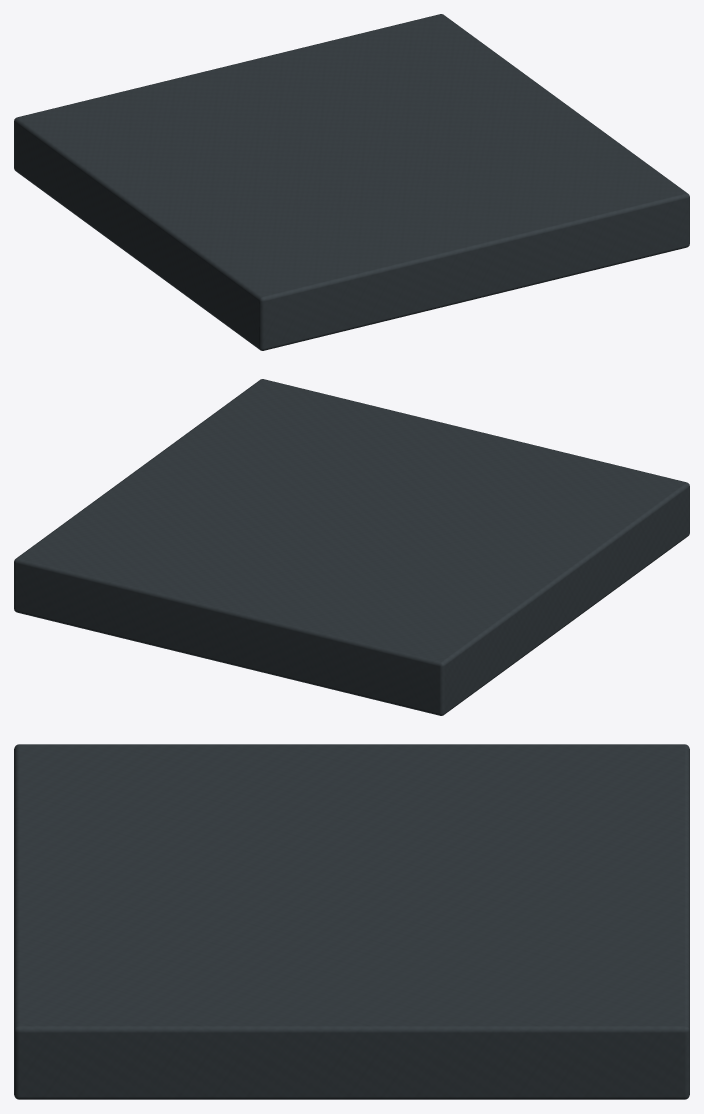
The model's file is CeilingAccessPanel.fbx.
3 renders of one model, top to bottom at view 1: azimuth 30°, elevation 25°; view 2: azimuth 150°, elevation 25°; view 3: azimuth 270°, elevation 25°, orthographic. The views are drawn at different scales.
Parts seen in each view (by area): view 1: CeilingAccessPanel_Mesh; view 2: CeilingAccessPanel_Mesh; view 3: CeilingAccessPanel_Mesh.
Boxes of the visible parts, x1=… form: CeilingAccessPanel_Mesh: x1=14, y1=14, x2=689, y2=350; CeilingAccessPanel_Mesh: x1=14, y1=379, x2=689, y2=715; CeilingAccessPanel_Mesh: x1=14, y1=744, x2=689, y2=1099.
Size of the model in its own units: 100 by 16.1 by 100.
5 materials, 5 textured.
